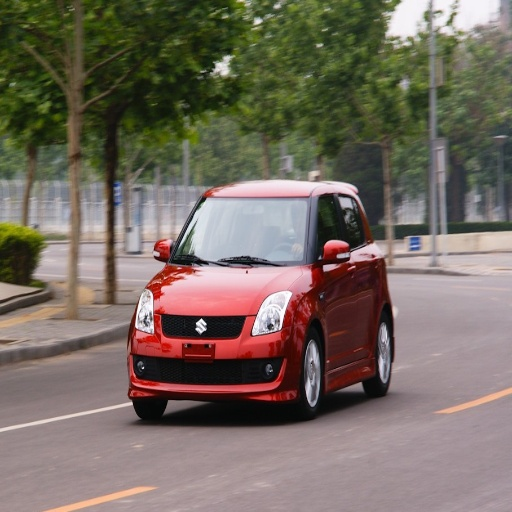front_bumper: (135, 312, 300, 399)
front_glass: (167, 198, 314, 267)
front_left_door: (315, 190, 359, 367)
